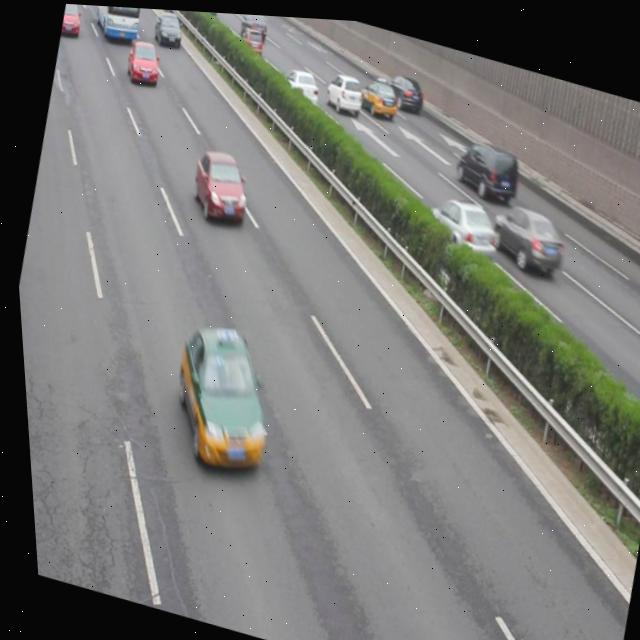car: (151, 316, 283, 481), (482, 193, 570, 275), (181, 140, 254, 229), (419, 186, 503, 256), (120, 33, 164, 86), (354, 70, 401, 118), (277, 60, 323, 105), (381, 66, 427, 111), (321, 66, 365, 113), (149, 7, 186, 49), (235, 20, 266, 54), (58, 3, 86, 37), (238, 11, 270, 39), (192, 9, 219, 17)
truck: (448, 128, 523, 200)
van: (85, 4, 153, 45)
